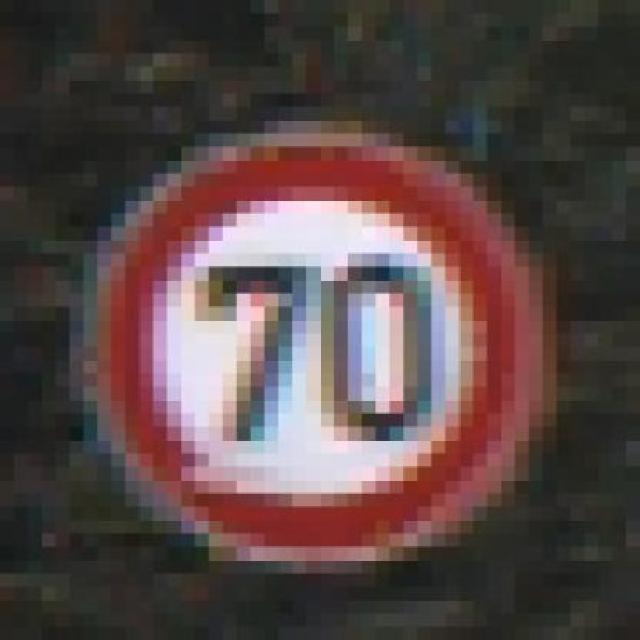forb_speed_over_70: (96, 134, 541, 558)
